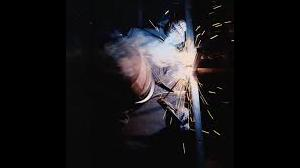controlled_fire: (150, 23, 200, 134)
